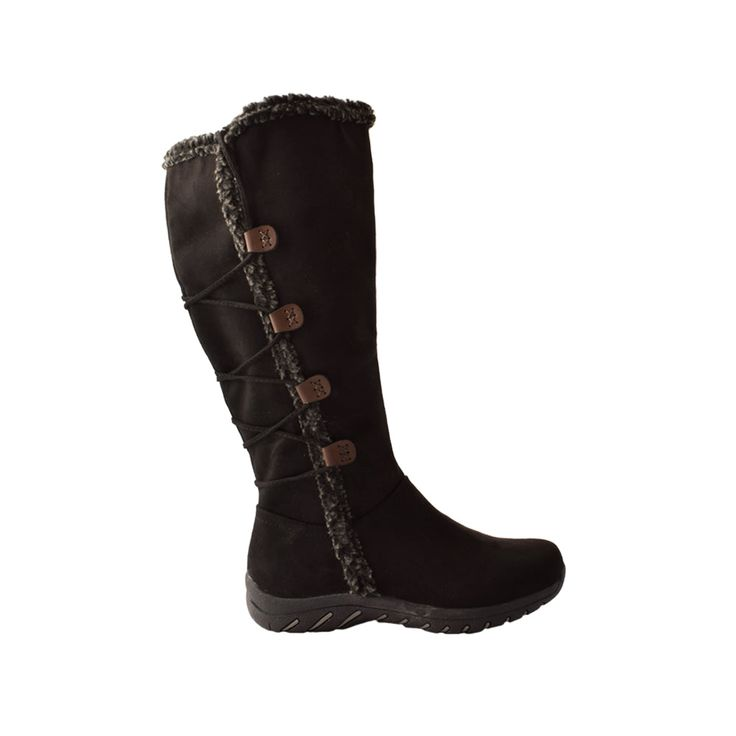gamuza: (164, 113, 565, 610)
